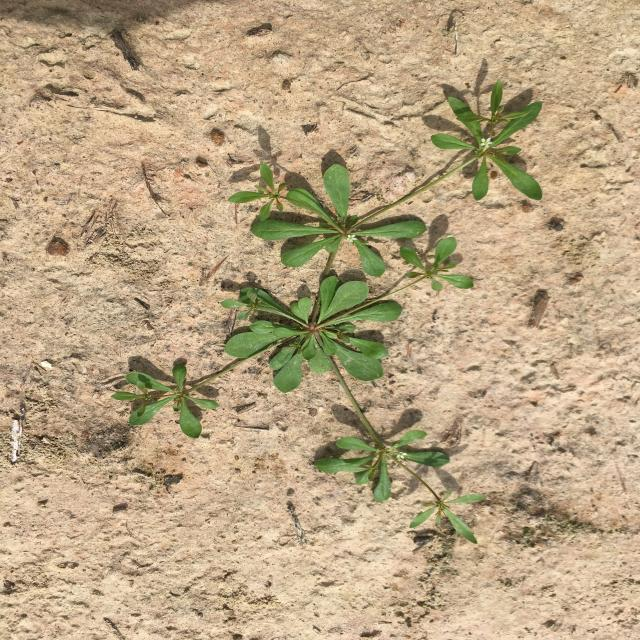Carpetweed: (110, 79, 543, 544)
